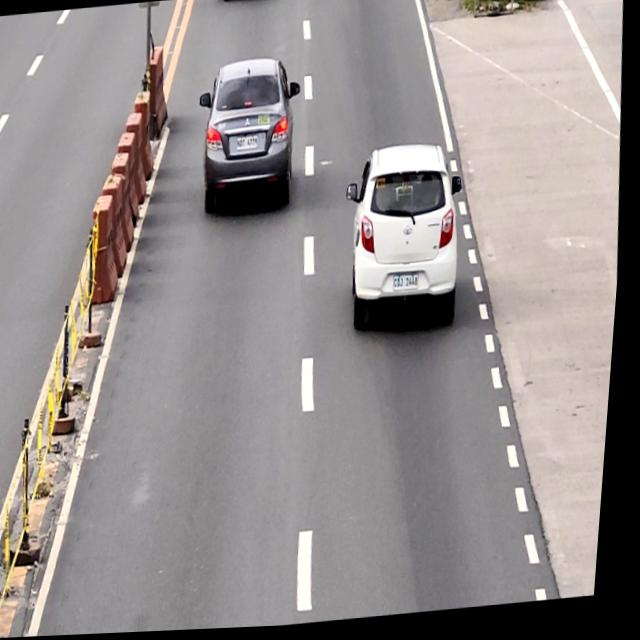Car: (340, 144, 475, 337), (193, 58, 309, 217)
License-Plate: (396, 277, 425, 297), (237, 138, 261, 152)
